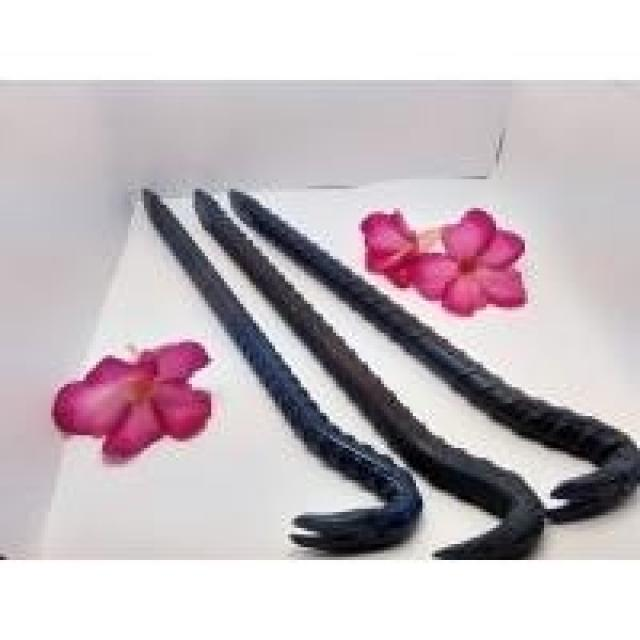Linggis: (142, 190, 424, 547)
